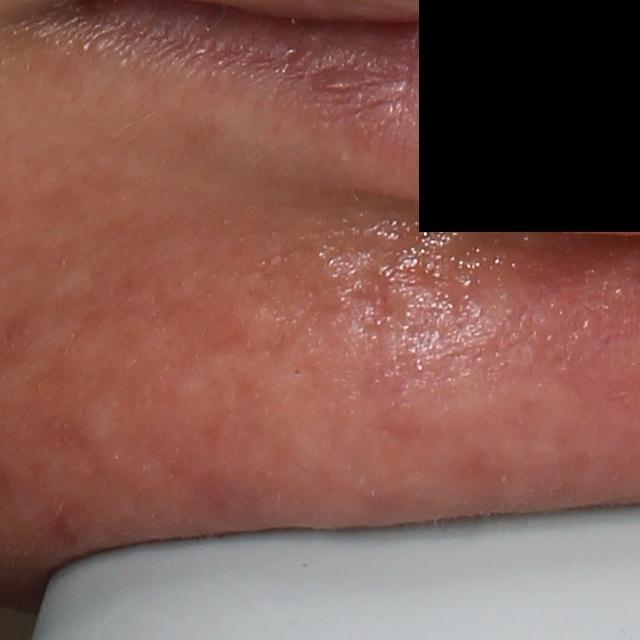atrophic_scar: (340, 261, 406, 341)
hypertrophic_scar: (69, 396, 109, 460)
